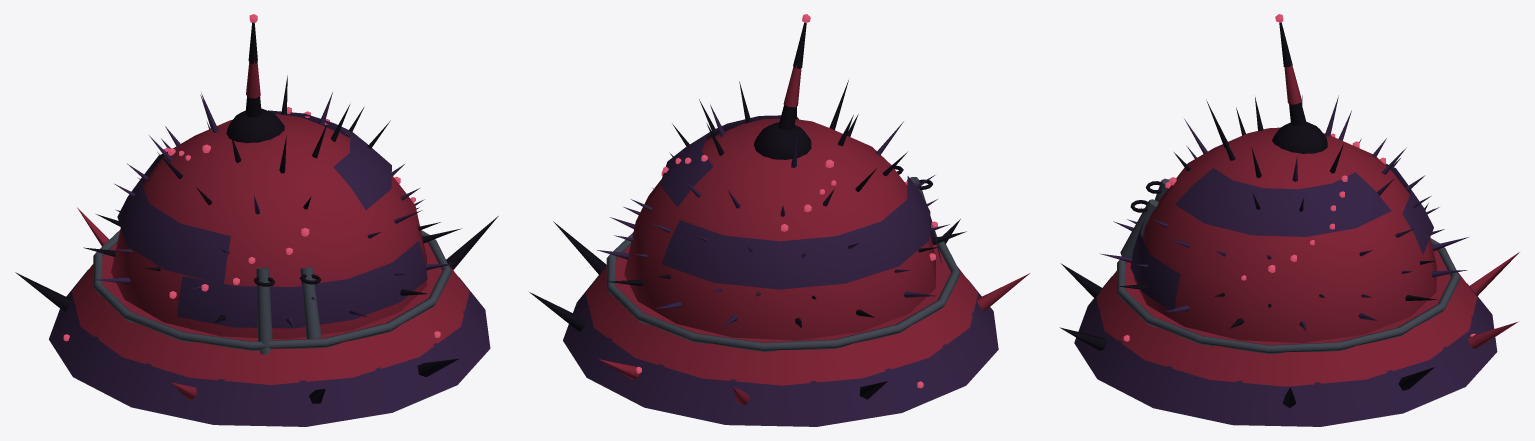
The model's file is cantor-directorate.glb.
3 renders of one model, left to right at view 1: azimuth 30°, elevation 25°; view 2: azimuth 150°, elevation 25°; view 3: azimuth 270°, elevation 25°, orthographic. The views are drawn at different scales.
Parts seen in each view (by area): view 1: dome_shell, base_tier_low, base_tier_high, shell_plate_2, shell_plate_1, weld_collar, shell_plate_0, apex_boss, ballast_pipe_0, ballast_pipe_1, skirt_claw_8, skirt_claw_2; view 2: dome_shell, base_tier_low, base_tier_high, shell_plate_1, weld_collar, shell_plate_0, apex_boss, skirt_claw_1, skirt_claw_2, quill_seg_1, skirt_claw_6; view 3: dome_shell, base_tier_low, base_tier_high, shell_plate_0, weld_collar, shell_plate_2, apex_boss, shell_plate_1, ballast_pipe_1, quill_seg_1, skirt_claw_9, skirt_claw_0.
Boxes of the visible parts, x1,y1,x2,y2 form: dome_shell: (111, 114, 426, 339); base_tier_low: (49, 269, 490, 426); base_tier_high: (72, 242, 469, 384); shell_plate_2: (177, 241, 427, 328); shell_plate_1: (117, 154, 230, 284); weld_collar: (93, 230, 451, 350); shell_plate_0: (268, 110, 391, 209); apex_boss: (226, 108, 284, 143); ballast_pipe_0: (256, 267, 272, 354); ballast_pipe_1: (300, 267, 321, 339); skirt_claw_8: (15, 272, 72, 311); skirt_claw_2: (446, 216, 498, 269); dome_shell: (624, 118, 935, 340); base_tier_low: (563, 271, 998, 426); base_tier_high: (585, 243, 977, 385); shell_plate_1: (661, 176, 930, 289); weld_collar: (606, 232, 960, 351); shell_plate_0: (660, 115, 798, 207); apex_boss: (754, 122, 811, 159); skirt_claw_1: (529, 292, 585, 331); skirt_claw_2: (553, 221, 606, 274); quill_seg_1: (783, 65, 801, 107); skirt_claw_6: (977, 273, 1029, 310); dome_shell: (1134, 127, 1436, 342); base_tier_low: (1074, 276, 1497, 426); base_tier_high: (1096, 250, 1477, 386); shell_plate_0: (1175, 168, 1391, 236); weld_collar: (1117, 238, 1460, 354); shell_plate_2: (1130, 219, 1180, 312); apex_boss: (1272, 122, 1327, 153); shell_plate_1: (1385, 163, 1433, 254); ballast_pipe_1: (1120, 199, 1158, 257); quill_seg_1: (1284, 63, 1301, 104); skirt_claw_9: (1469, 252, 1519, 295); skirt_claw_0: (1468, 321, 1518, 348).
Size of the model in its own units: 147 by 109 by 145.
